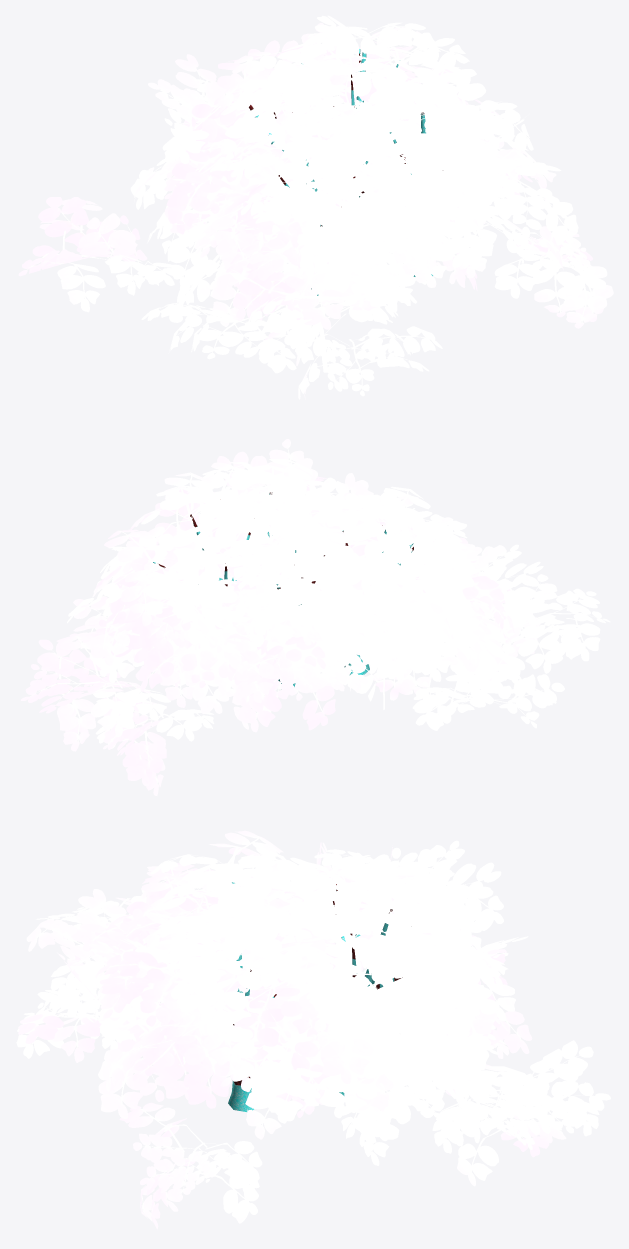
3 renders of one model, top to bottom at view 1: azimuth 30°, elevation 25°; view 2: azimuth 150°, elevation 25°; view 3: azimuth 270°, elevation 25°, orthographic. The views are drawn at different scales.
Parts seen in each view (by area): view 1: SM_Medium_Bush_01_C_LOD0; view 2: SM_Medium_Bush_01_C_LOD0; view 3: SM_Medium_Bush_01_C_LOD0.
Boxes of the visible parts, x1,y1,x2,y2 form: SM_Medium_Bush_01_C_LOD0: [18, 15, 613, 399]; SM_Medium_Bush_01_C_LOD0: [21, 439, 610, 795]; SM_Medium_Bush_01_C_LOD0: [16, 830, 610, 1229].
Size of the model in its own units: 2.24 by 1.1 by 2.06.
Materials: 2 (2 with a texture image).
